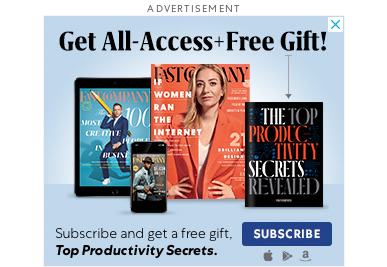fake_button: (239, 219, 336, 250), (317, 16, 345, 35)
